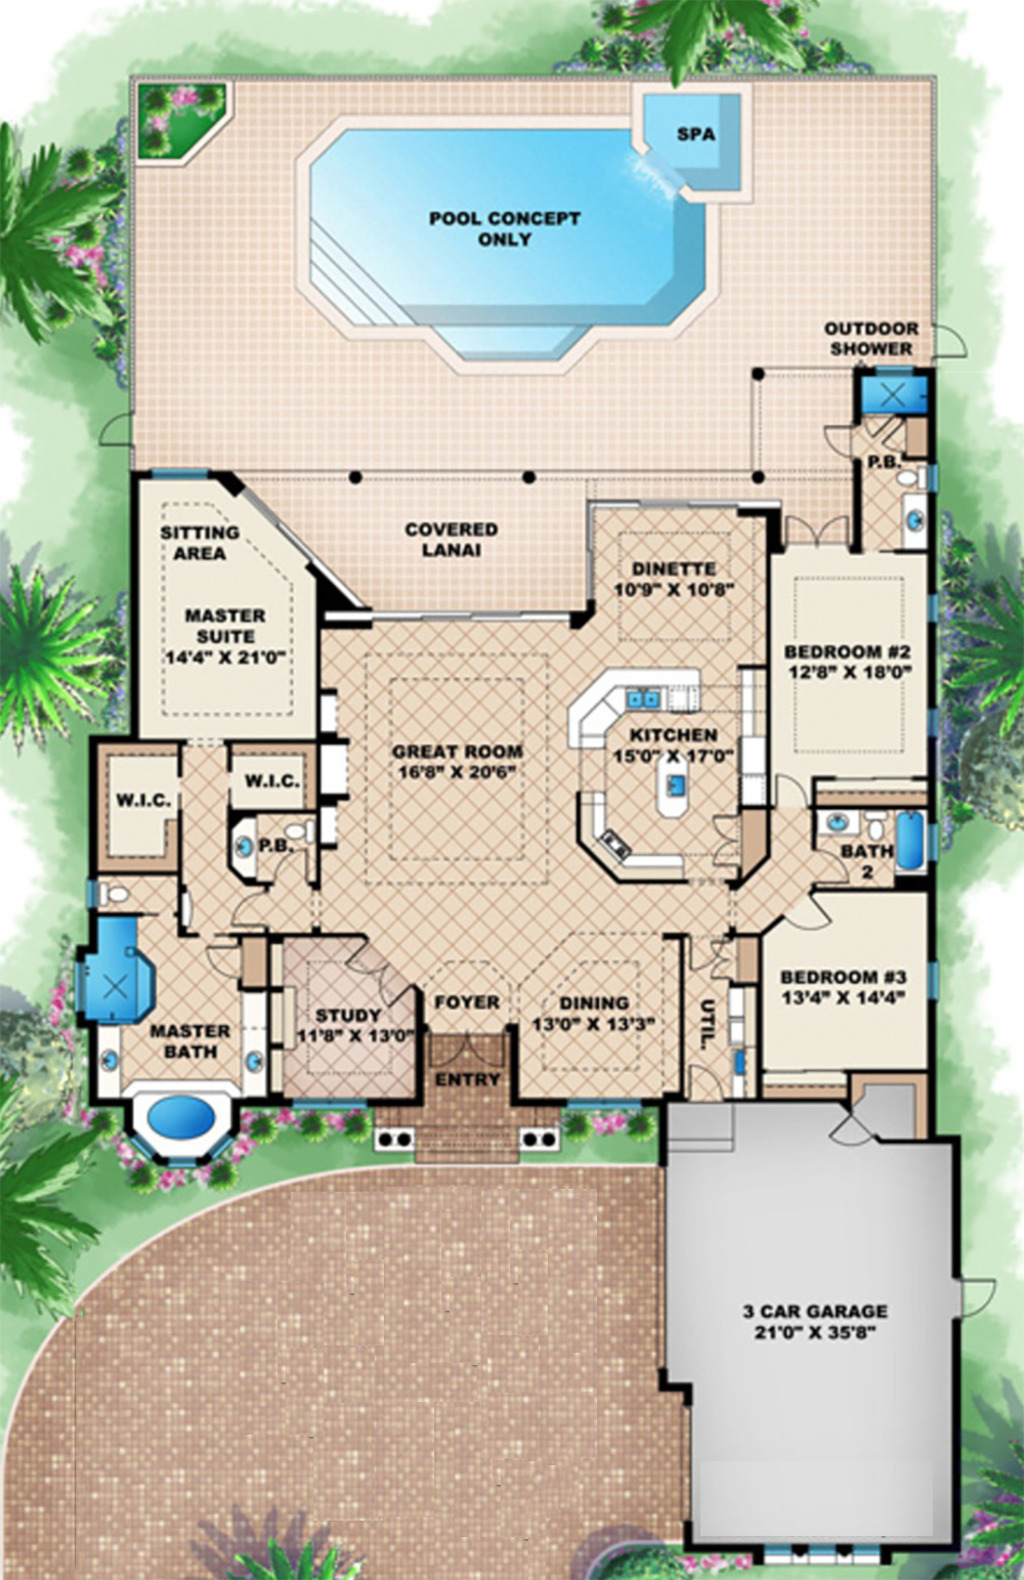door: (772, 510, 864, 559), (346, 943, 404, 1013), (821, 1110, 882, 1155), (706, 808, 741, 873), (779, 890, 829, 933), (772, 773, 816, 813), (809, 850, 854, 888), (814, 420, 859, 458), (196, 940, 237, 980), (229, 887, 266, 930)
kitchen_bar: (564, 662, 706, 753)
large_sink: (89, 882, 134, 910), (285, 816, 321, 846)
small_sink: (238, 1027, 276, 1112), (91, 1028, 124, 1100)
tub: (896, 802, 924, 875)
